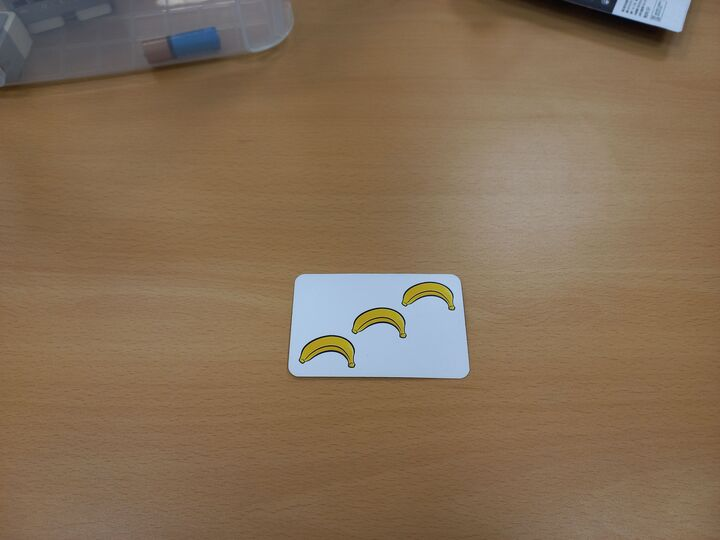banana3: (288, 270, 471, 381)
